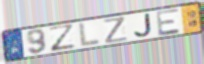9: (25, 28, 48, 55)
E: (155, 7, 183, 37)
J: (133, 12, 153, 38)
L: (78, 21, 102, 49)
Z: (47, 23, 79, 53), (102, 16, 130, 45)
